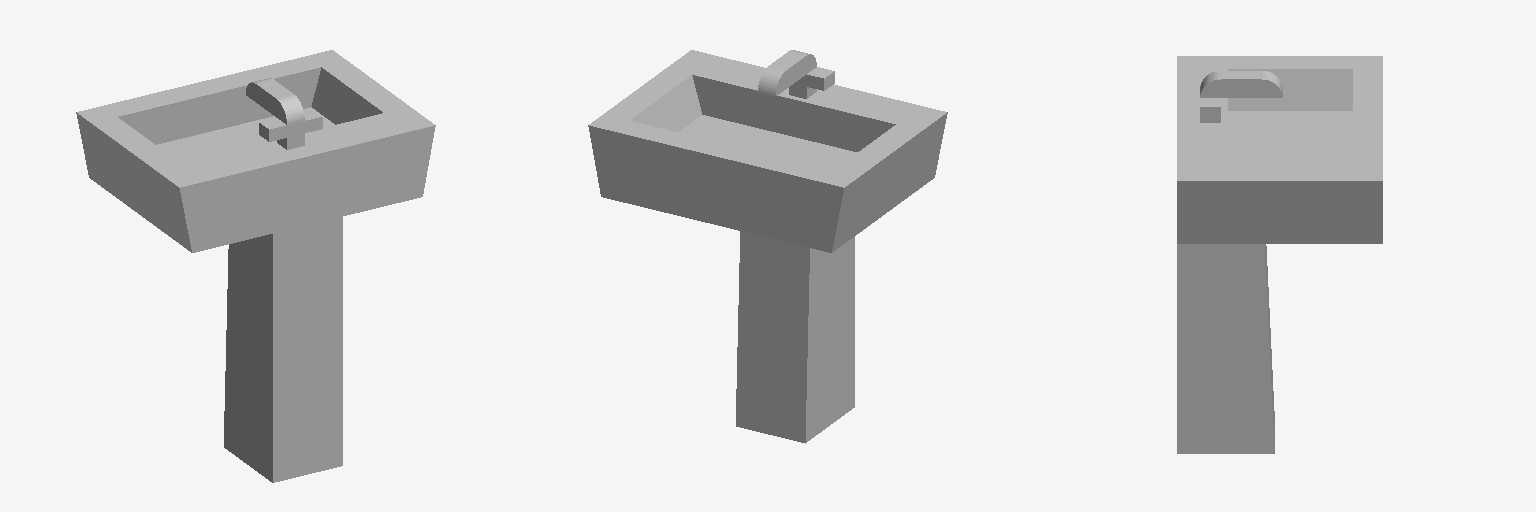
The model's file is bathroomSinkSquare.obj.
The picture shows the model from 3 angles: view 1: azimuth 30°, elevation 25°; view 2: azimuth 150°, elevation 25°; view 3: azimuth 270°, elevation 25°; orthographic projection.
Visible parts, largest first — view 1: bathroomSinkSquare; view 2: bathroomSinkSquare; view 3: bathroomSinkSquare.
Boxes of the visible parts, box(x1,y1,x2,y2) form: bathroomSinkSquare: box(76, 50, 435, 482); bathroomSinkSquare: box(588, 50, 947, 443); bathroomSinkSquare: box(1177, 56, 1382, 453).
Size of the model in its own units: 0.43 by 0.58 by 0.3.